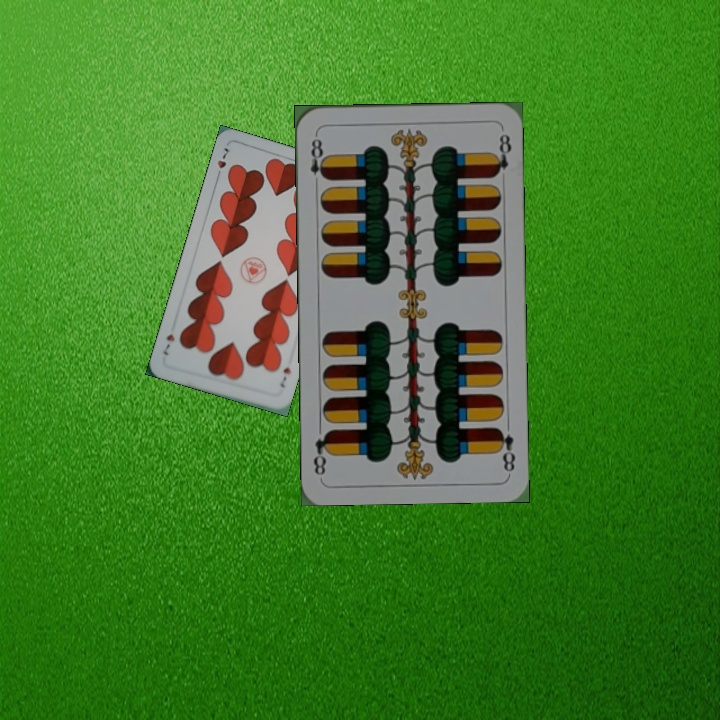E8: (306, 130, 329, 189), (493, 424, 518, 475)
H7: (212, 143, 231, 182), (275, 363, 293, 390)
